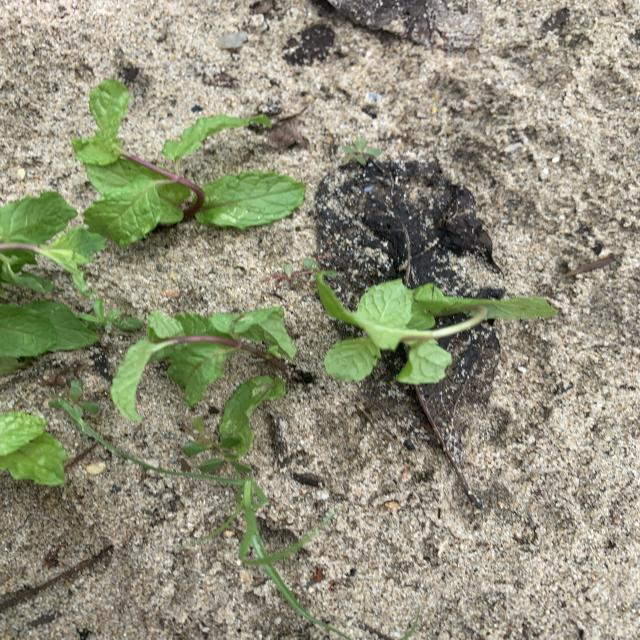crop: (72, 80, 305, 246), (111, 306, 296, 455), (316, 273, 556, 385), (0, 191, 105, 294), (0, 300, 99, 376), (0, 411, 68, 486)
weed: (76, 419, 349, 640), (181, 417, 251, 473), (78, 299, 143, 334), (273, 258, 339, 287), (48, 388, 100, 421), (341, 137, 381, 167)
